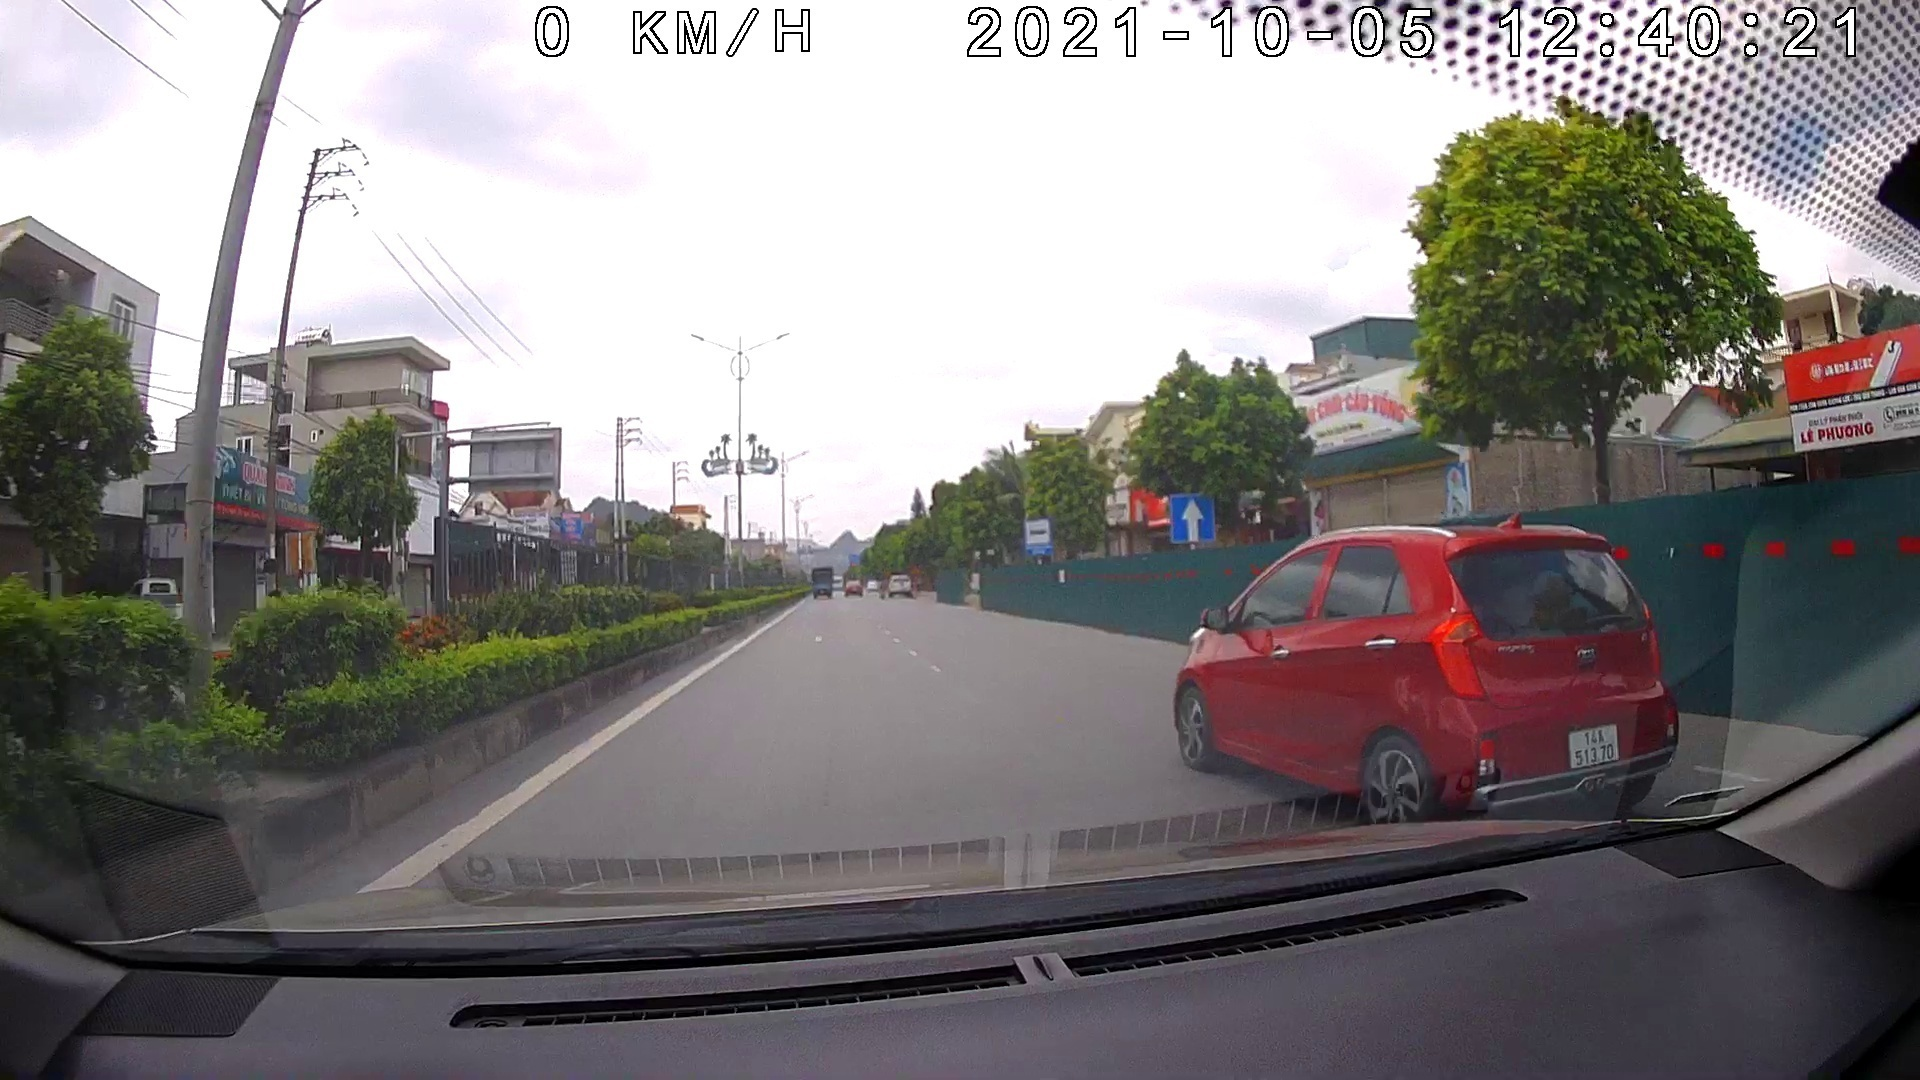Bien khac: (1168, 491, 1218, 545), (1025, 516, 1054, 555)
